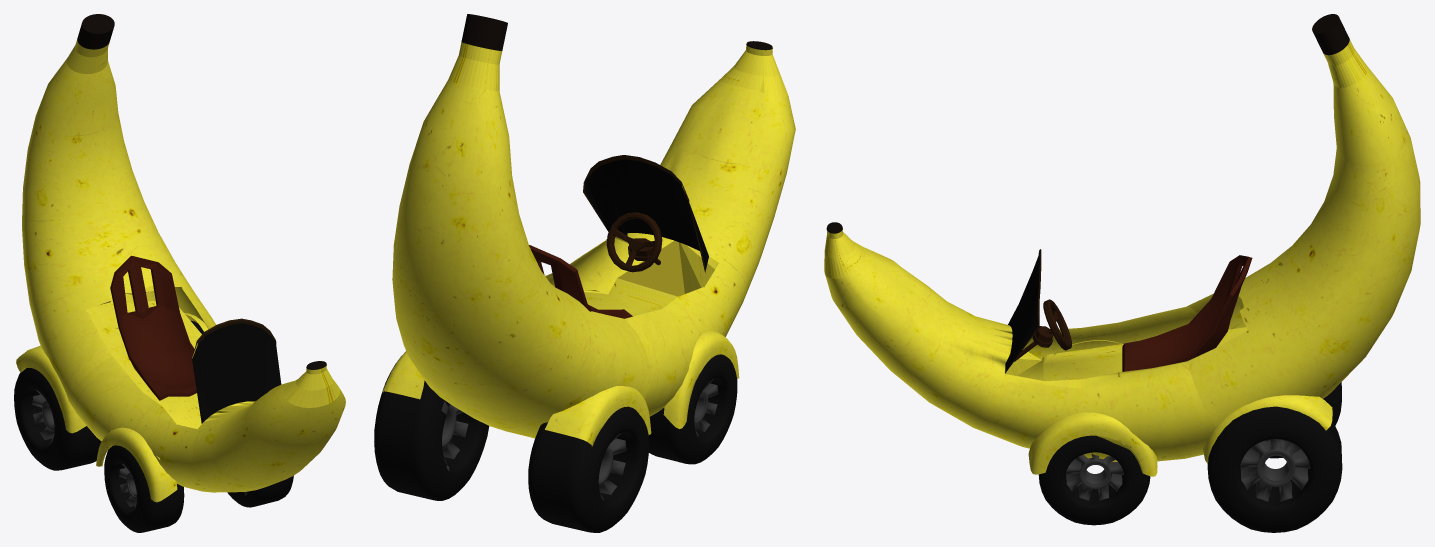
The model's file is banana2(1).FBX.
The picture shows the model from 3 angles, left to right: view 1: azimuth 30°, elevation 25°; view 2: azimuth 150°, elevation 25°; view 3: azimuth 270°, elevation 25°; orthographic projection. The views are drawn at different scales.
Visible parts, largest first — view 1: Plane001, Line001, Cylinder012, Cylinder008, Tube001, Tube002, Cylinder009; view 2: Plane001, Cylinder012, Cylinder010, Cylinder008, Tube002, Tube001, Cylinder001, Line001, Tube004; view 3: Plane001, Cylinder010, Cylinder009, Line001, Tube003, Tube004, Cylinder001.
Boxes of the visible parts, box(x1,y1,x2,y2) form: Plane001: box(22, 14, 345, 492); Line001: box(110, 255, 196, 400); Cylinder012: box(14, 368, 101, 470); Cylinder008: box(104, 445, 184, 532); Tube001: box(96, 427, 177, 502); Tube002: box(16, 345, 86, 433); Cylinder009: box(227, 475, 293, 507); Plane001: box(392, 14, 795, 438); Cylinder012: box(528, 406, 649, 532); Cylinder010: box(374, 356, 489, 500); Cylinder008: box(649, 354, 737, 464); Tube002: box(545, 386, 651, 446); Tube001: box(663, 331, 739, 428); Cylinder001: box(606, 212, 662, 272); Line001: box(529, 245, 632, 318); Tube004: box(382, 351, 424, 399); Plane001: box(824, 14, 1420, 462); Cylinder010: box(1207, 406, 1342, 532); Cylinder009: box(1038, 435, 1150, 525); Line001: box(1122, 255, 1252, 371); Tube003: box(1028, 412, 1157, 476); Tube004: box(1203, 395, 1332, 463); Cylinder001: box(1043, 299, 1071, 350).
Bounding box in the file's own units: 129 × 293 × 337.
Materials: 8 (1 with a texture image).
